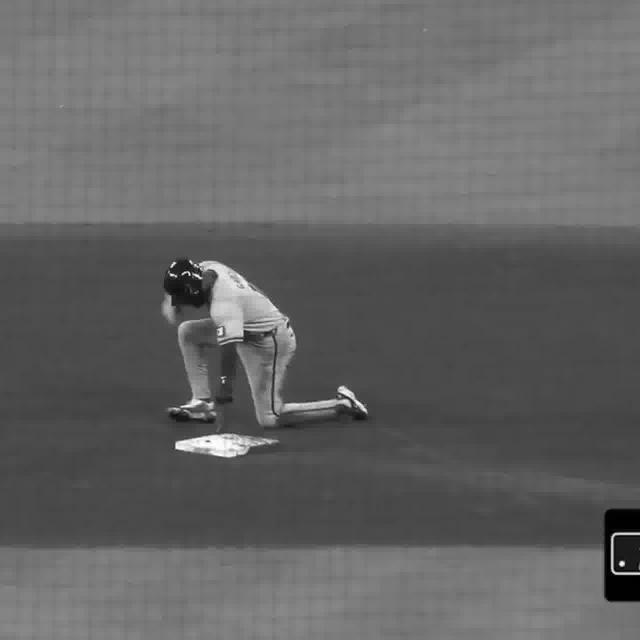base: (174, 436, 280, 460)
shoe: (337, 388, 368, 417), (169, 402, 214, 419)
